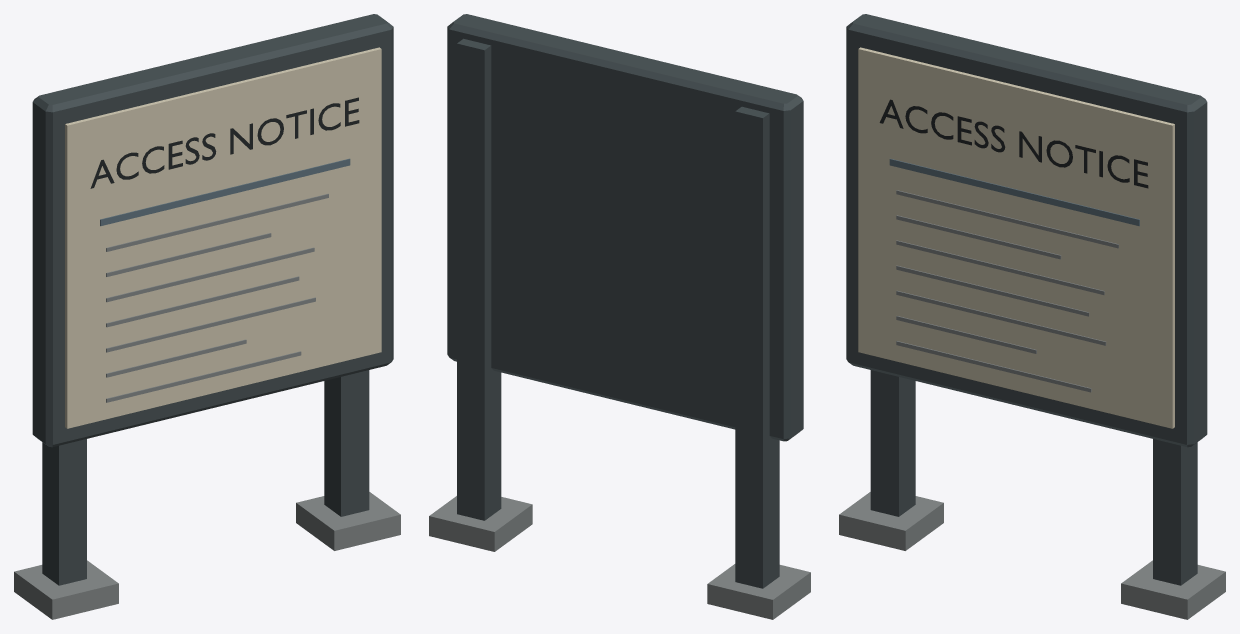
The model's file is Waterworks_AccessNotice.fbx.
The picture shows the model from 3 angles, left to right: view 1: azimuth 30°, elevation 25°; view 2: azimuth 150°, elevation 25°; view 3: azimuth 330°, elevation 25°; orthographic projection.
Visible parts, largest first — view 1: Waterworks_AccessNotice; view 2: Waterworks_AccessNotice; view 3: Waterworks_AccessNotice.
Boxes of the visible parts, x1,y1,x2,y2 form: Waterworks_AccessNotice: (14,14,400,619); Waterworks_AccessNotice: (429,14,810,619); Waterworks_AccessNotice: (839,14,1225,619).
Size of the model in its own units: 0.682 by 0.95 by 0.13.
